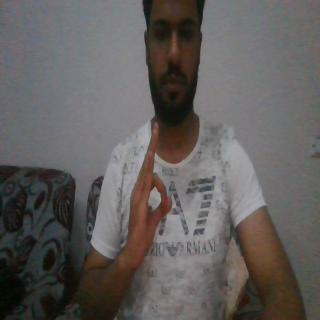Space: (119, 116, 174, 278)
